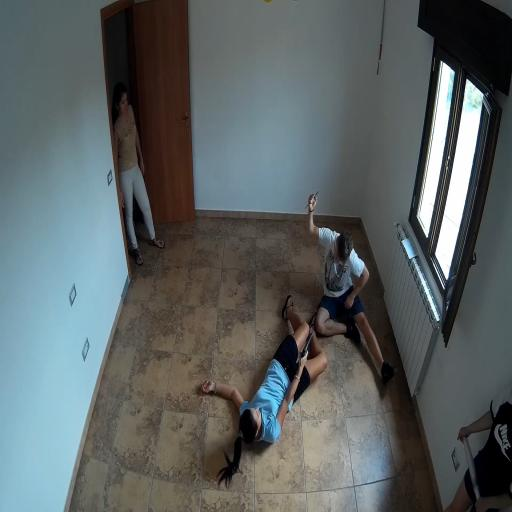violencia: (186, 168, 400, 494)
